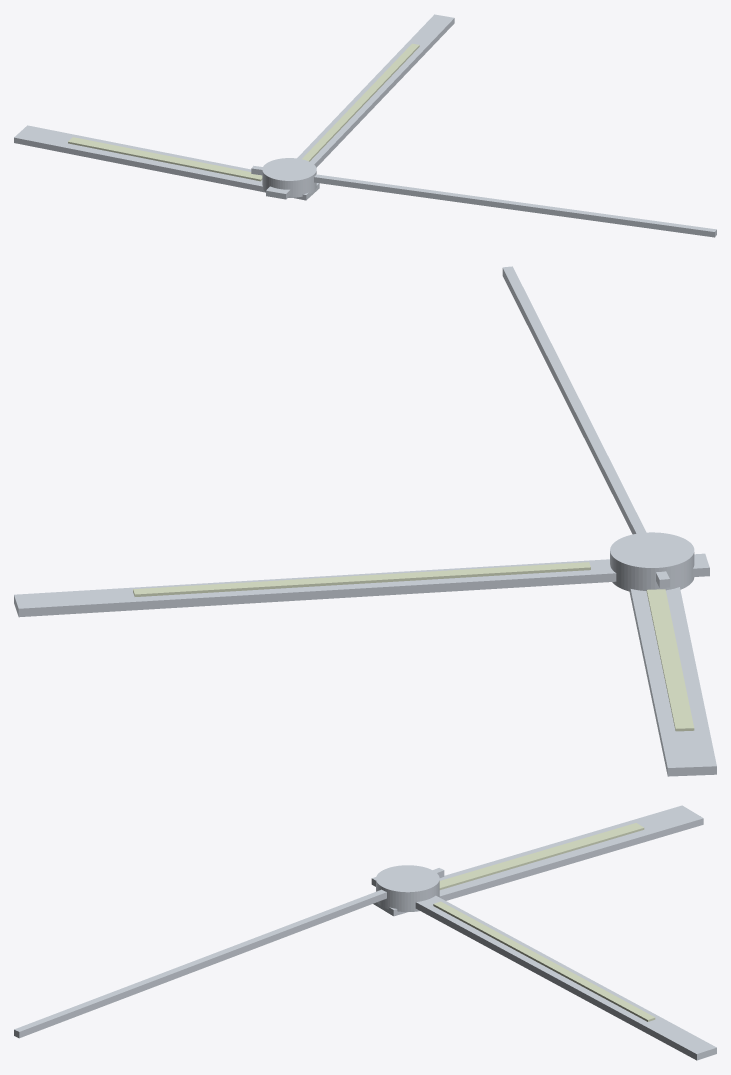
The model's file is hands-field.glb.
3 views of the same model, one above another, from view 1: azimuth 30°, elevation 25°; view 2: azimuth 150°, elevation 25°; view 3: azimuth 270°, elevation 25° (orthographic). The views are drawn at different scales.
Parts seen in each view (by area): view 1: DD_ARCH_HAND_0, DD_ARCH_HAND_2, DD_ARCH_HAND_1, DD_ARCH_HAND_HUB, DD_ARCH_HAND_LUME_0, DD_ARCH_HAND_LUME_1; view 2: DD_ARCH_HAND_1, DD_ARCH_HAND_0, DD_ARCH_HAND_2, DD_ARCH_HAND_HUB, DD_ARCH_HAND_LUME_1, DD_ARCH_HAND_LUME_0; view 3: DD_ARCH_HAND_1, DD_ARCH_HAND_0, DD_ARCH_HAND_2, DD_ARCH_HAND_HUB, DD_ARCH_HAND_LUME_0, DD_ARCH_HAND_LUME_1.
Boxes of the visible parts, x1=… form: DD_ARCH_HAND_0: x1=14, y1=125, x2=319, y2=200; DD_ARCH_HAND_2: x1=251, y1=165, x2=716, y2=237; DD_ARCH_HAND_1: x1=266, y1=14, x2=454, y2=199; DD_ARCH_HAND_HUB: x1=262, y1=158, x2=316, y2=197; DD_ARCH_HAND_LUME_0: x1=68, y1=137, x2=262, y2=181; DD_ARCH_HAND_LUME_1: x1=302, y1=43, x2=419, y2=161; DD_ARCH_HAND_1: x1=14, y1=553, x2=709, y2=617; DD_ARCH_HAND_0: x1=629, y1=587, x2=716, y2=776; DD_ARCH_HAND_2: x1=502, y1=266, x2=669, y2=588; DD_ARCH_HAND_HUB: x1=610, y1=532, x2=694, y2=591; DD_ARCH_HAND_LUME_1: x1=133, y1=562, x2=590, y2=596; DD_ARCH_HAND_LUME_0: x1=646, y1=589, x2=694, y2=731; DD_ARCH_HAND_1: x1=371, y1=877, x2=716, y2=1060; DD_ARCH_HAND_0: x1=373, y1=805, x2=703, y2=916; DD_ARCH_HAND_2: x1=14, y1=868, x2=444, y2=1038; DD_ARCH_HAND_HUB: x1=376, y1=865, x2=439, y2=911; DD_ARCH_HAND_LUME_0: x1=439, y1=823, x2=644, y2=889; DD_ARCH_HAND_LUME_1: x1=433, y1=901, x2=655, y2=1021.
Bounding box in the file's own units: 13.76 × 0.6 × 15.97.
